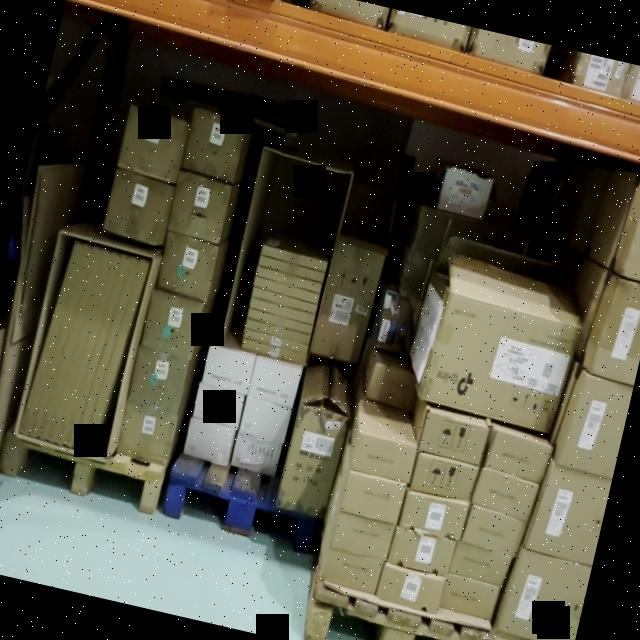box: (420, 292, 580, 433), (82, 260, 150, 453), (37, 248, 104, 441), (73, 258, 140, 450), (64, 256, 131, 447), (18, 242, 84, 435), (54, 253, 120, 445), (28, 245, 92, 438), (47, 253, 111, 443), (310, 242, 384, 362), (526, 463, 611, 567), (496, 549, 591, 640), (276, 404, 346, 518), (558, 374, 632, 478), (590, 278, 640, 385), (118, 105, 186, 182), (103, 167, 171, 244), (182, 108, 245, 181), (168, 172, 231, 244), (141, 291, 204, 358), (157, 233, 218, 302), (128, 346, 189, 415), (117, 401, 177, 465), (418, 412, 488, 465), (484, 430, 552, 484), (471, 468, 539, 522), (461, 505, 527, 557), (399, 491, 467, 540), (341, 472, 405, 524), (387, 526, 455, 574), (376, 564, 444, 610), (350, 434, 416, 481), (330, 512, 393, 560), (410, 456, 476, 501), (438, 165, 493, 219), (448, 541, 511, 588), (438, 573, 500, 620), (321, 548, 382, 594), (248, 357, 302, 407), (201, 346, 255, 394), (239, 397, 291, 442), (192, 384, 244, 428), (183, 419, 234, 463), (230, 433, 282, 474), (260, 244, 328, 270), (241, 338, 306, 364), (244, 320, 310, 344), (258, 257, 325, 279), (249, 300, 314, 322), (247, 310, 312, 332), (252, 290, 316, 311), (255, 270, 321, 290), (253, 280, 319, 300), (244, 331, 308, 351)
